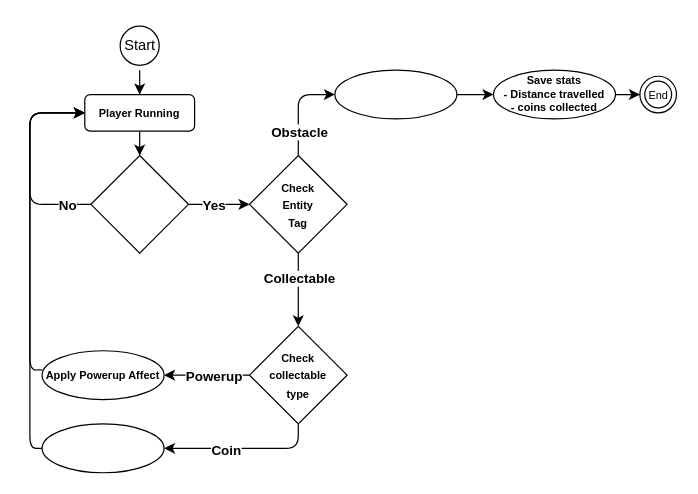
The diagram is 698 pixels wide and 494 high, and some of its shapes have lost their labels. Each missing label, with the centre of its shape:
Collect coin: [102,448]
defeat player.: [395,94]
Player Colliding?: [139,203]
